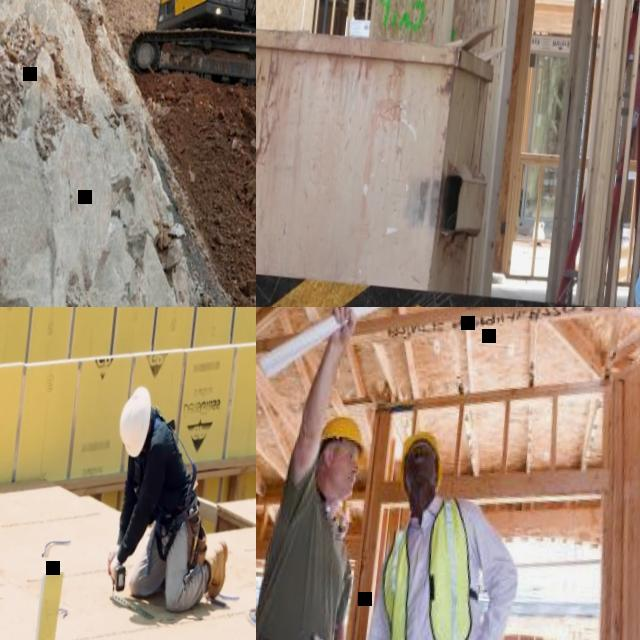Hardhat: (398, 428, 446, 492), (115, 386, 153, 462), (320, 415, 370, 448)
NO-Mask: (326, 464, 356, 501), (407, 457, 433, 484)
NO-Safety Vest: (256, 488, 350, 640), (138, 418, 190, 526)
Person: (256, 307, 386, 640), (347, 422, 536, 640), (100, 386, 244, 618)
Safety Vest: (373, 495, 481, 640)
vehicle: (122, 0, 256, 129)
